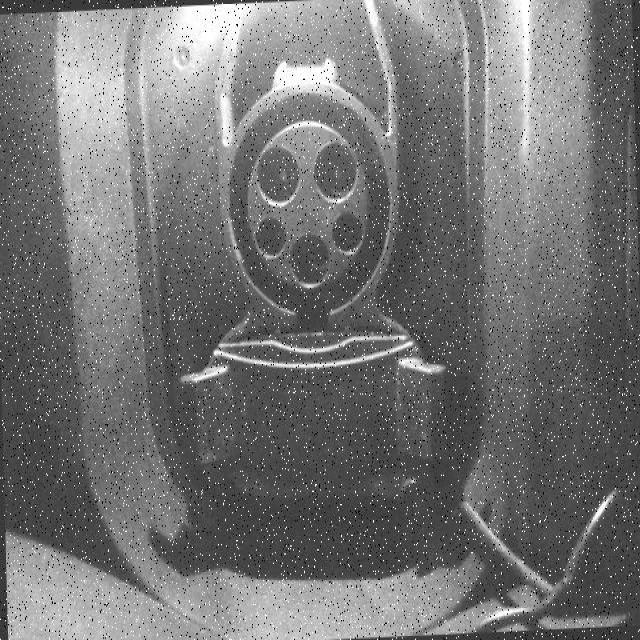Type 1: (217, 85, 394, 324)
